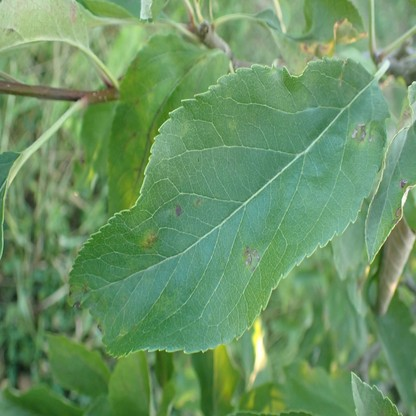scab: (122, 59, 161, 207), (68, 281, 89, 309), (350, 121, 373, 144), (243, 244, 261, 272), (139, 228, 157, 249), (392, 205, 402, 227), (96, 320, 105, 336), (172, 204, 182, 215), (193, 196, 202, 207), (399, 178, 407, 188)
